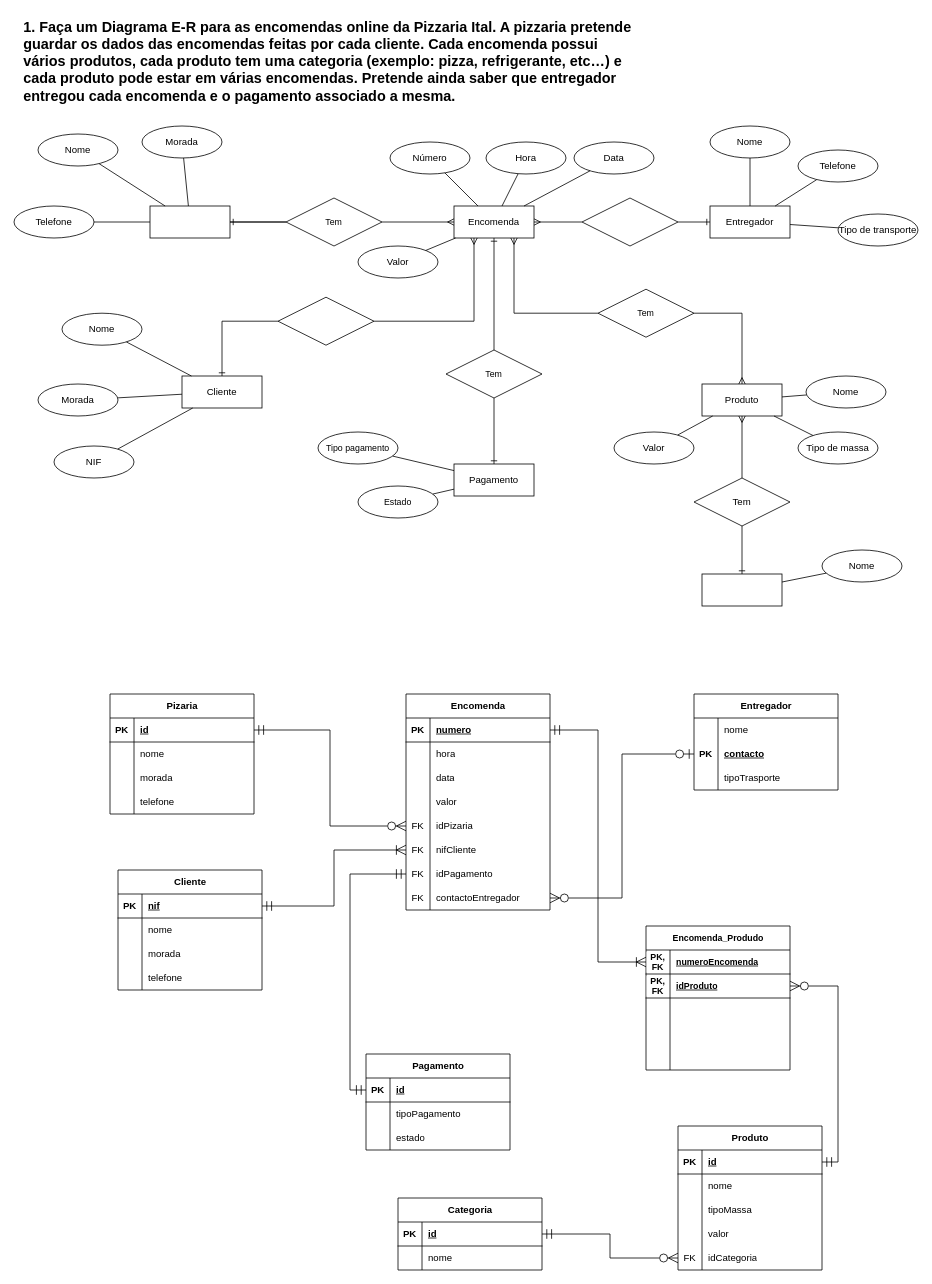
Image size: 932x1284. Some labels were removed from this diagram. Each missing label, with the centre of its shape:
"Categora" belongs at [741,589].
"Pizzaria" belongs at [189,221].
"Realizada" belongs at [629,221].
"É feita" belongs at [325,320].
